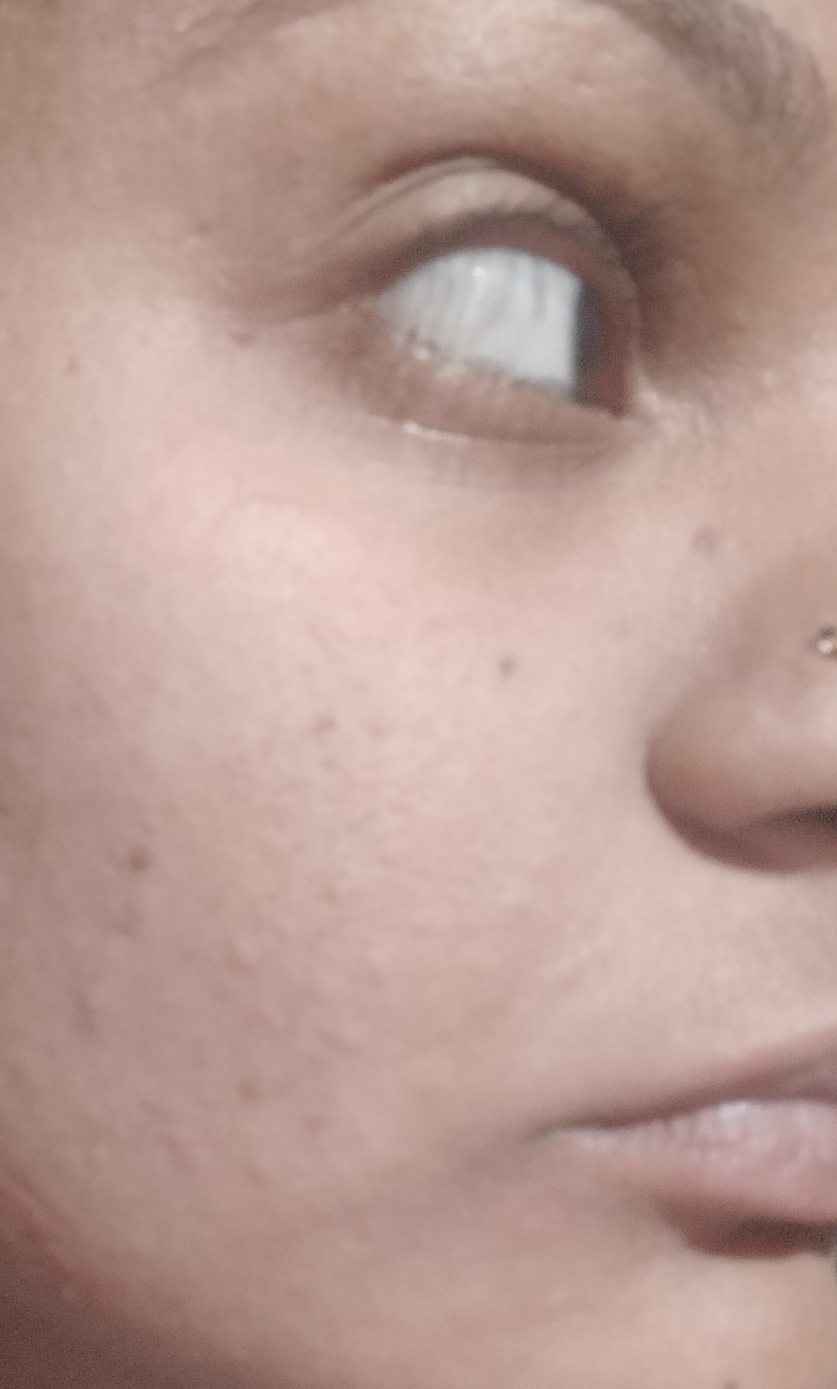closed_comedone: (136, 1091, 207, 1201), (201, 912, 304, 983), (81, 885, 189, 947), (61, 956, 120, 1038)
